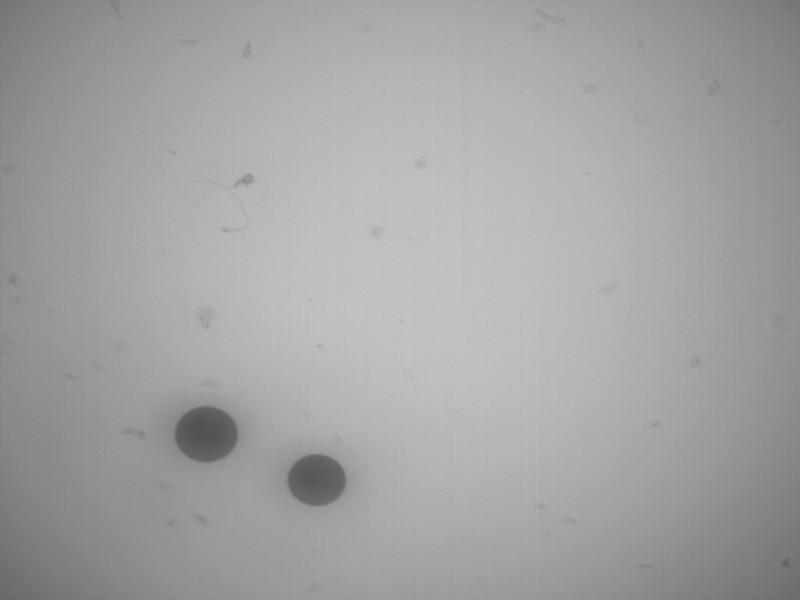bead: (173, 404, 240, 465), (287, 452, 350, 508)
fiber: (201, 176, 253, 236)
